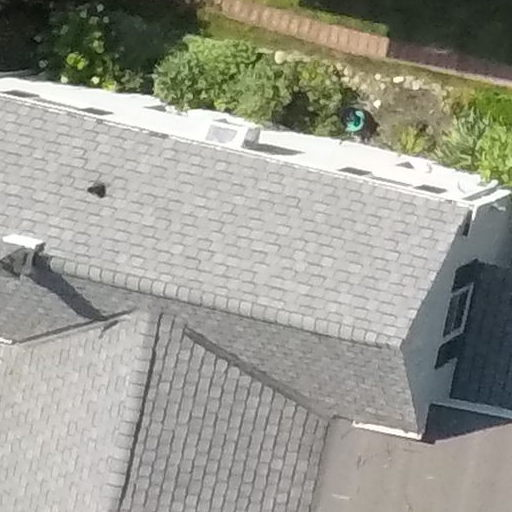container: (338, 101, 368, 135)
